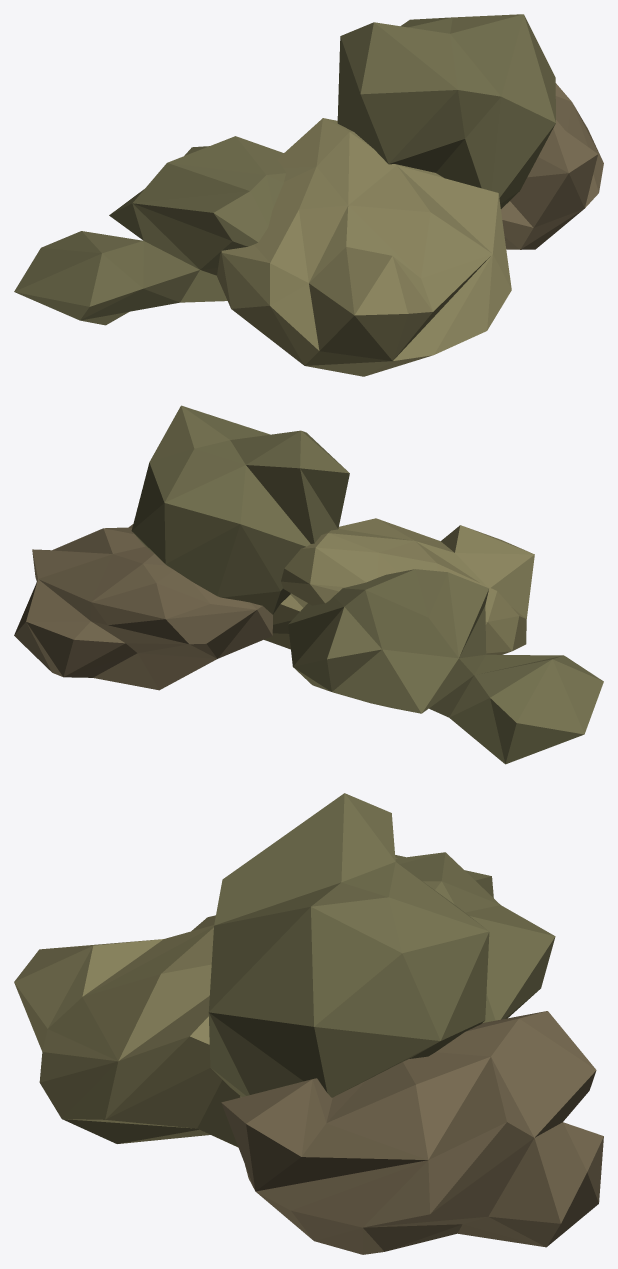
The model's file is SM_Env_Bush_Large_03.fbx.
3 renders of one model, top to bottom at view 1: azimuth 30°, elevation 25°; view 2: azimuth 150°, elevation 25°; view 3: azimuth 270°, elevation 25°, orthographic. The views are drawn at different scales.
Visible parts, largest first — view 1: SM_Env_Bush_Large_03; view 2: SM_Env_Bush_Large_03; view 3: SM_Env_Bush_Large_03.
Boxes of the visible parts, x1=… form: SM_Env_Bush_Large_03: x1=14, y1=14, x2=603, y2=376; SM_Env_Bush_Large_03: x1=14, y1=405, x2=603, y2=764; SM_Env_Bush_Large_03: x1=14, y1=793, x2=603, y2=1254.
Size of the model in its own units: 785 by 361 by 514.
